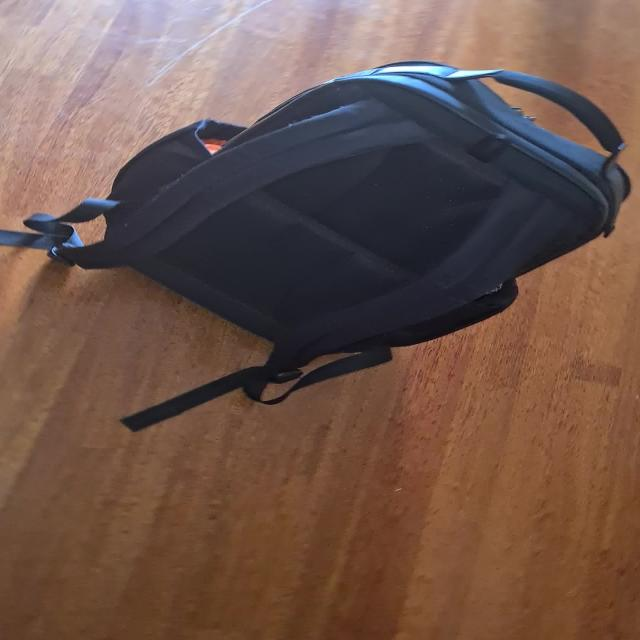backpack: (85, 49, 640, 353)
